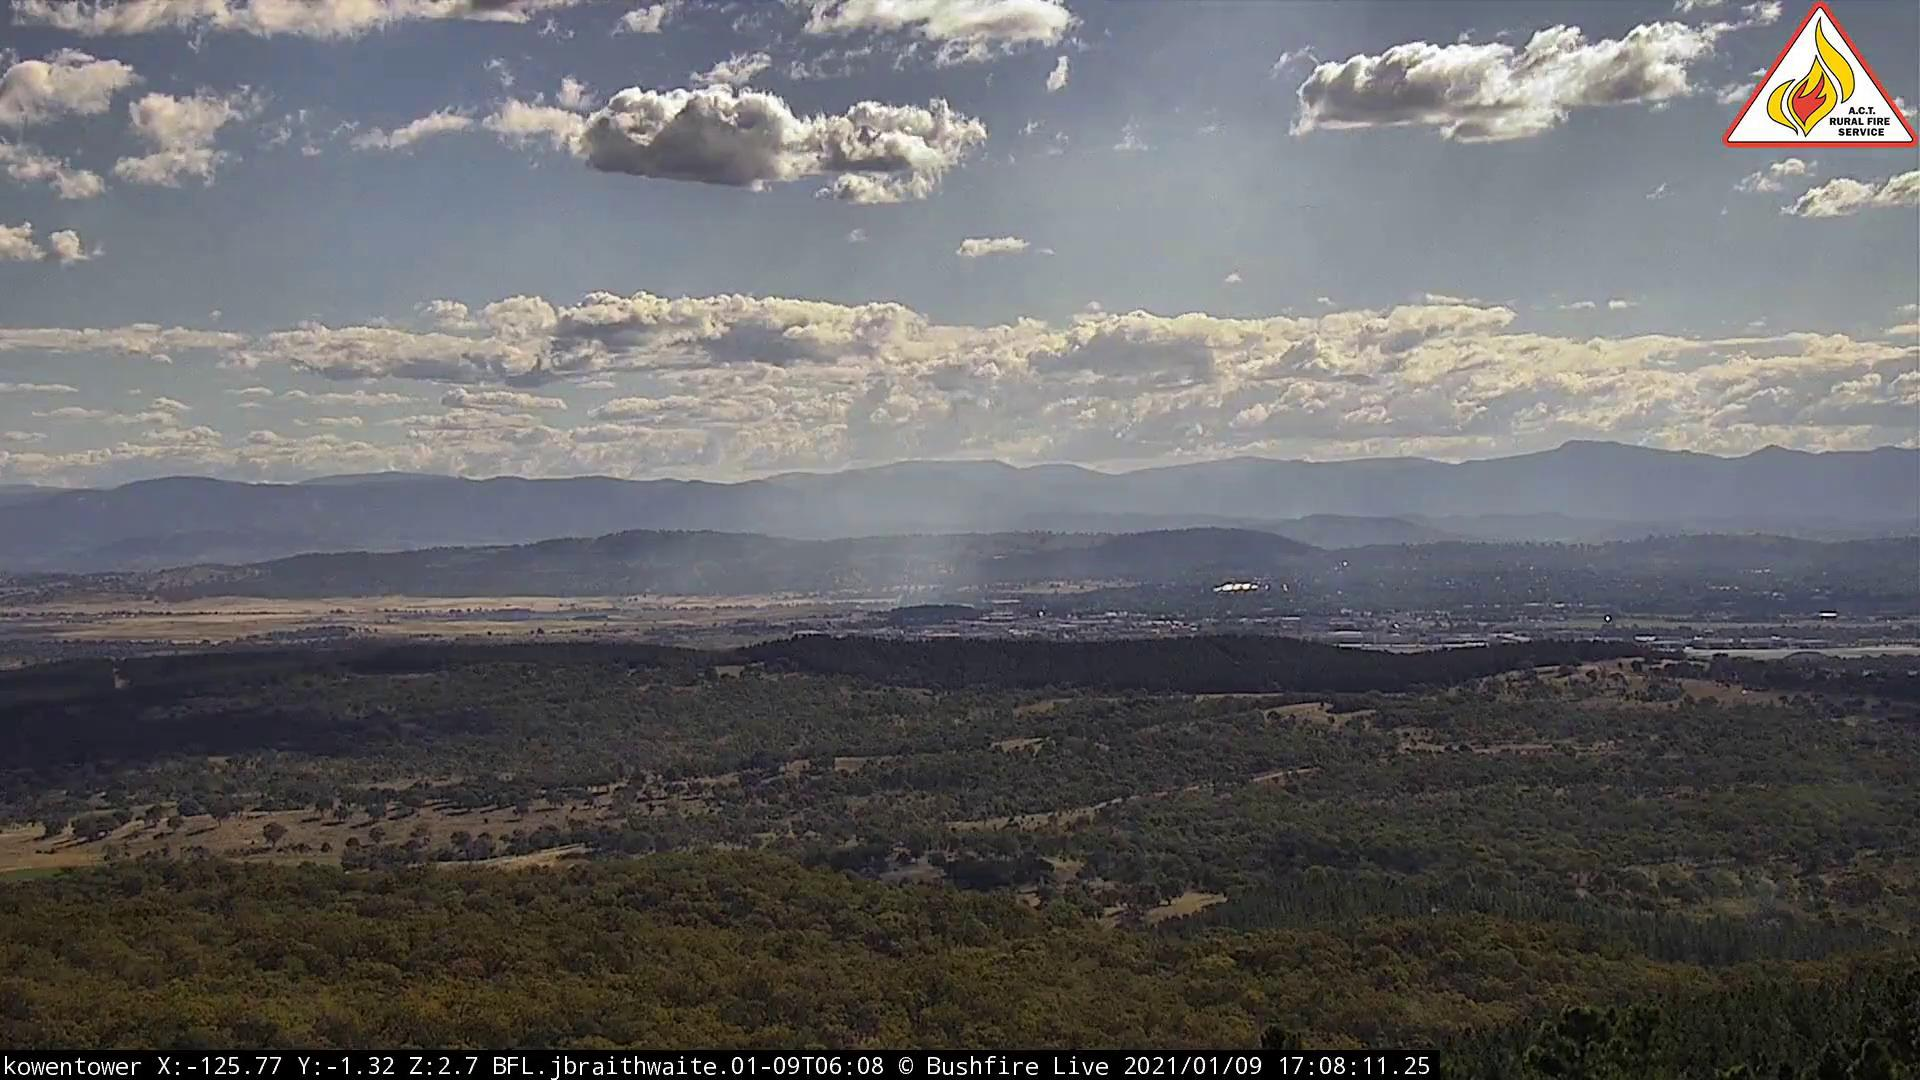Smoke: (822, 484, 1058, 609)
